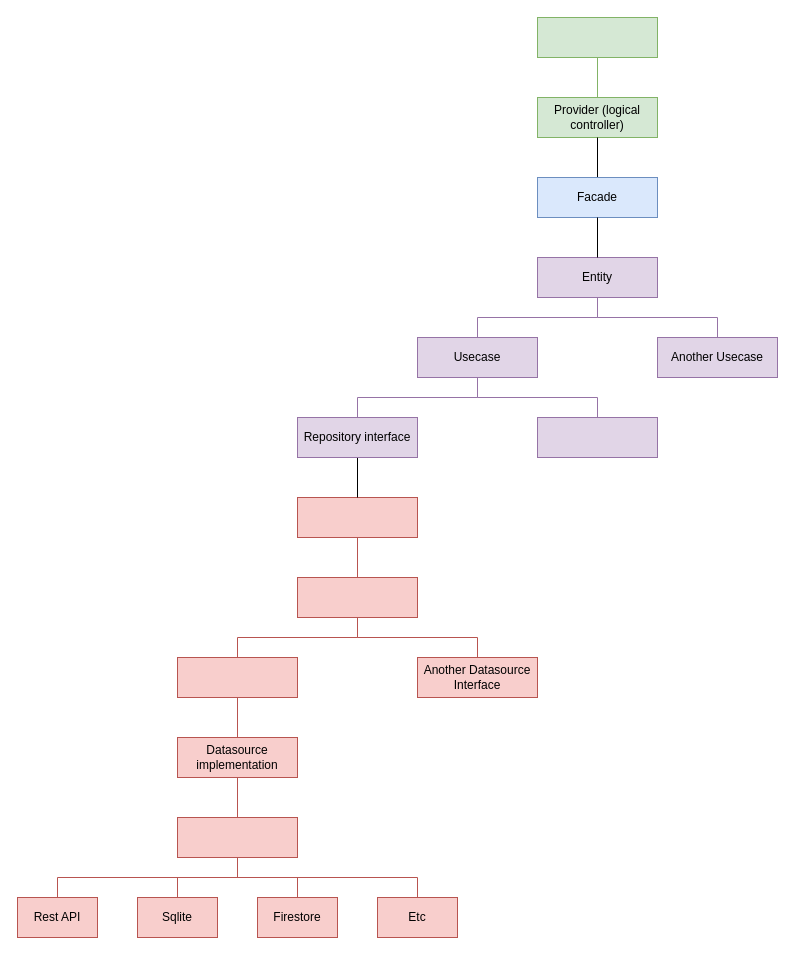
This 795x955 diagram has some shape labels left out. Each missing label, with the centre of its shape:
"Another Repository interface" belongs at [597,437].
"Datasource interface" belongs at [237,677].
"Model" belongs at [237,837].
"Model & Entity Mapper" belongs at [357,597].
"Presentation (UI)" belongs at [597,37].
"Repository Implementation" belongs at [357,517].
